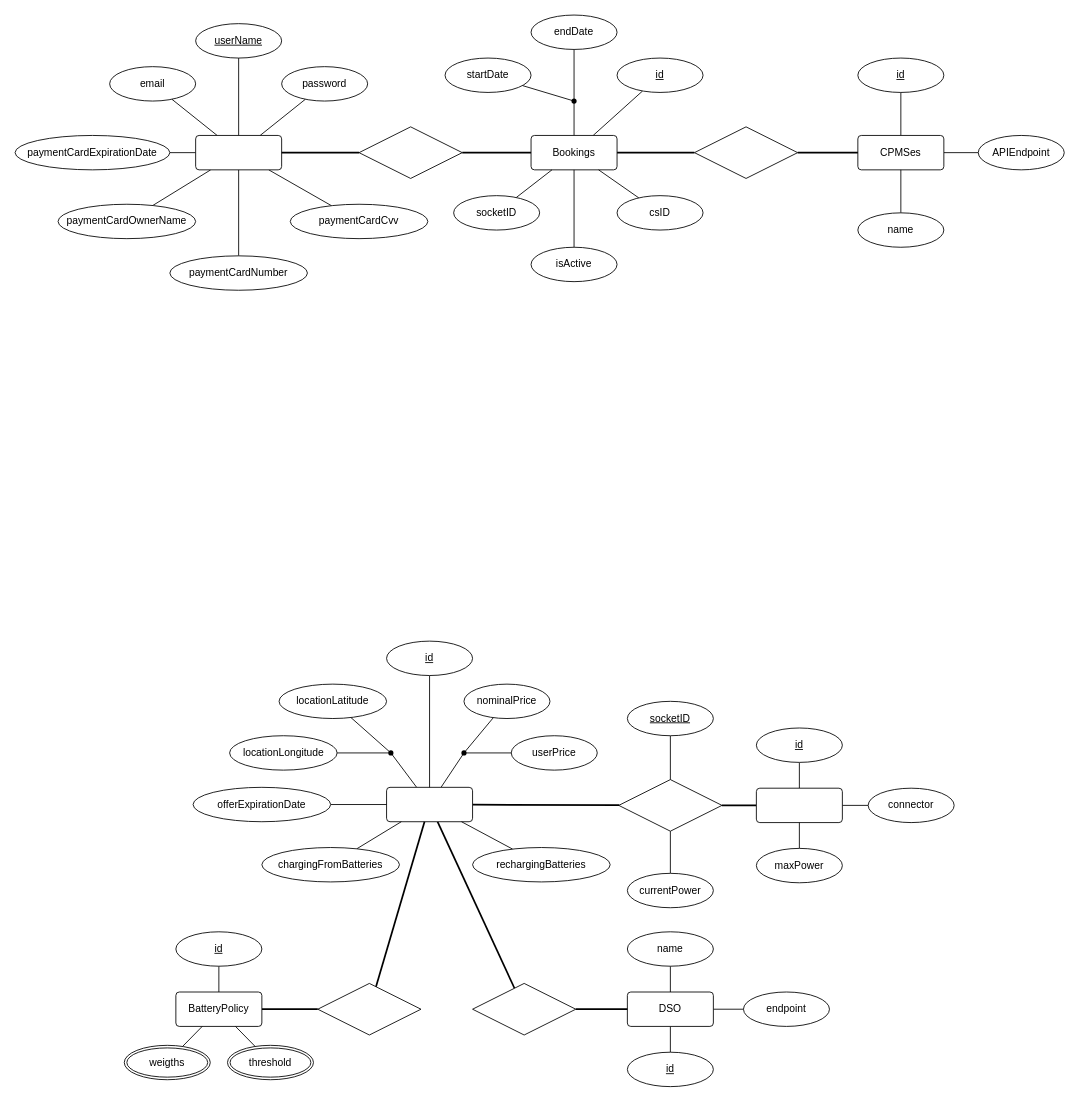
This 1079x1102 diagram has some shape labels left out. The centre of each missing label's shape, as x and y in pixels:
"CS" goes at (429,804).
"current DSO" goes at (524,1009).
"current Policy" goes at (369,1009).
"Made by" goes at (410,152).
"Made with" goes at (746,152).
"Sockets of CS" goes at (670,805).
"SocketType" goes at (799,805).
"Users" goes at (238,152).
